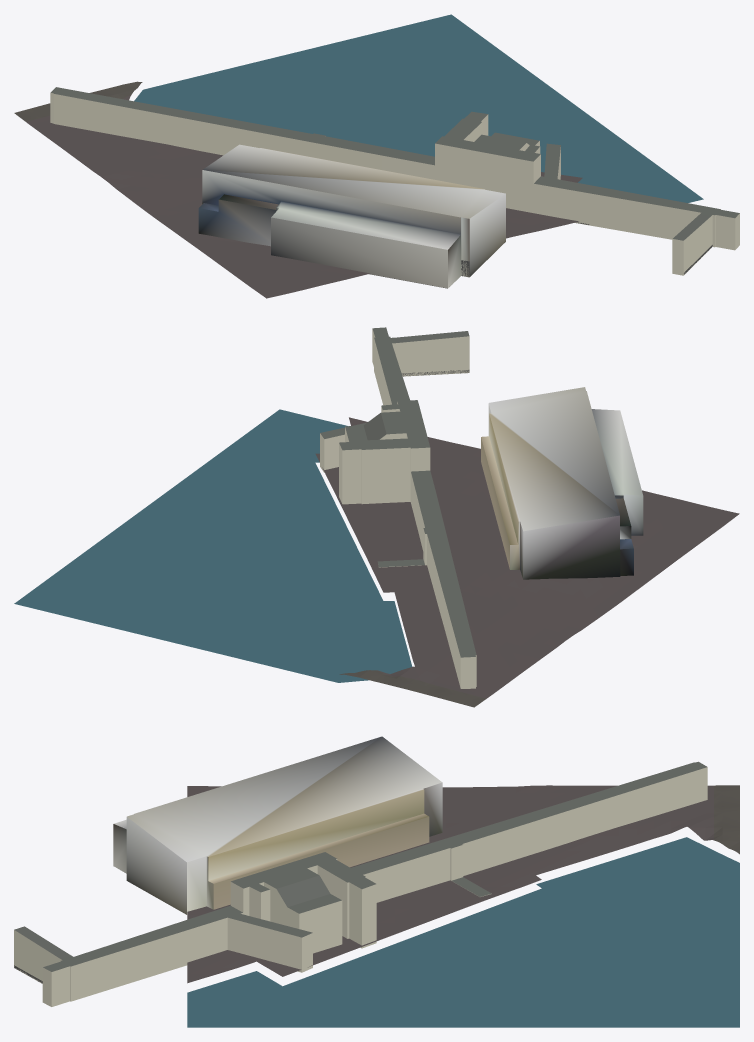
The picture shows the model from 3 angles, top to bottom: view 1: azimuth 30°, elevation 25°; view 2: azimuth 150°, elevation 25°; view 3: azimuth 270°, elevation 25°; orthographic projection. The views are drawn at different scales.
Parts seen in each view (by area): view 1: c_p02_p06; view 2: c_p02_p06; view 3: c_p02_p06.
Boxes of the visible parts, x1,y1,x2,y2 form: c_p02_p06: (14,14,739,298); c_p02_p06: (14,327,739,707); c_p02_p06: (14,736,739,1027).
Bounding box in the file's own units: 128 × 18.15 × 168.
